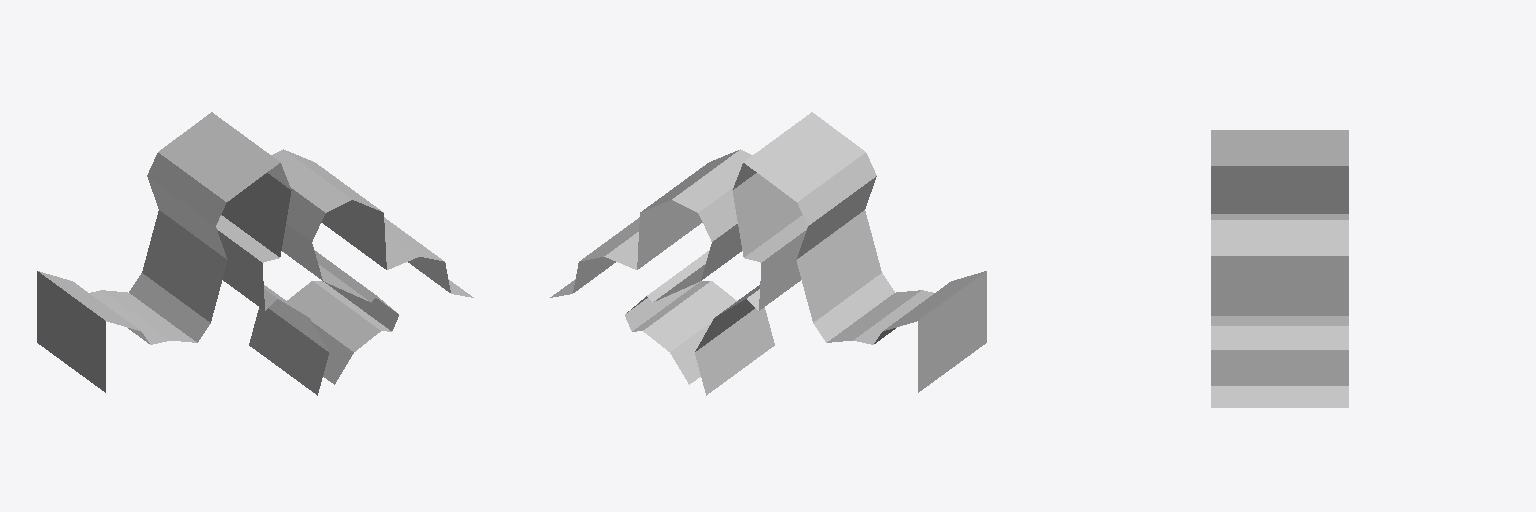
Rendered from Land3_Collider.obj.
3 views of the same model, side by side, from view 1: azimuth 30°, elevation 25°; view 2: azimuth 150°, elevation 25°; view 3: azimuth 270°, elevation 25° (orthographic).
Visible parts, largest first — view 1: pPlane1; view 2: pPlane1; view 3: pPlane1.
Boxes of the visible parts, x1=… form: pPlane1: x1=37, y1=112, x2=473, y2=395; pPlane1: x1=550, y1=112, x2=986, y2=395; pPlane1: x1=1211, y1=130, x2=1348, y2=407.
Bounding box in the file's own units: 5.99 × 3.77 × 1.94.